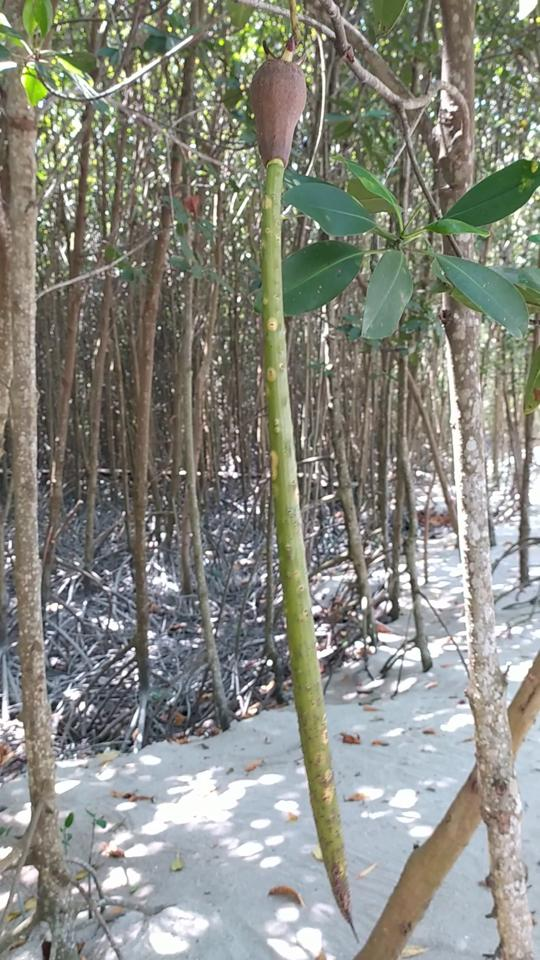setengah matang: (233, 29, 368, 945)
